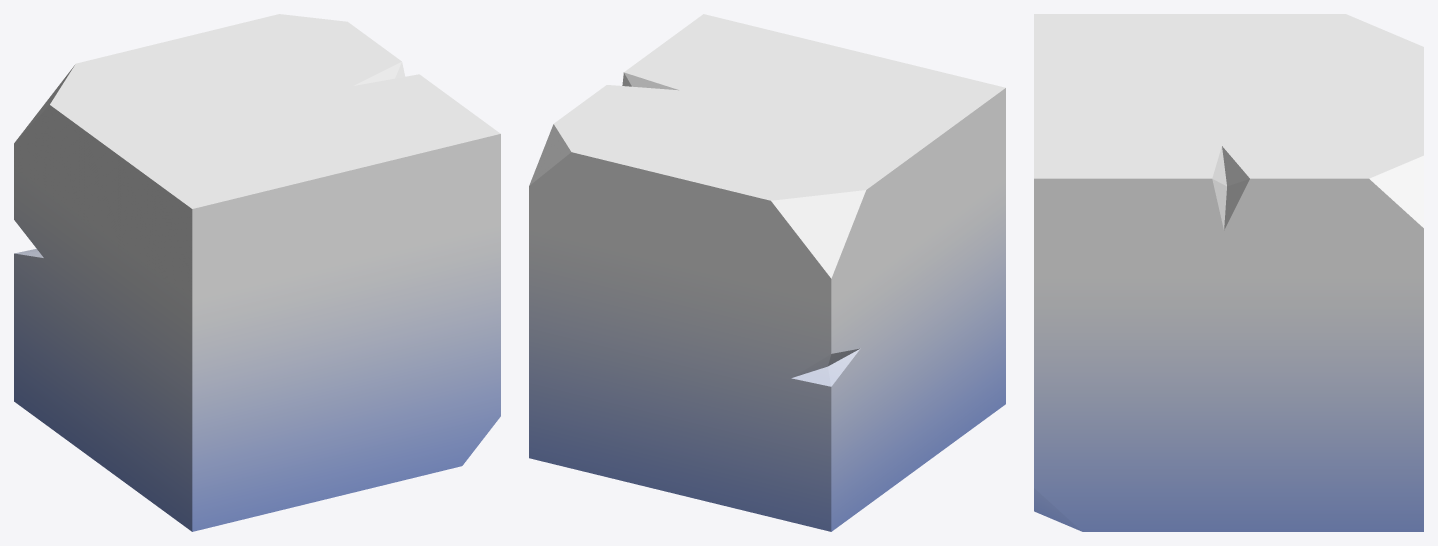
Rendered from Stone015.fbx.
The picture shows the model from 3 angles, left to right: view 1: azimuth 30°, elevation 25°; view 2: azimuth 150°, elevation 25°; view 3: azimuth 270°, elevation 25°; orthographic projection. The views are drawn at different scales.
Visible parts, largest first — view 1: Stone015; view 2: Stone015; view 3: Stone015.
Part boxes in pixels (left/top/right/bottom): Stone015: left=14, top=14, right=500, bottom=531; Stone015: left=529, top=14, right=1005, bottom=531; Stone015: left=1034, top=14, right=1423, bottom=531.
Bounding box in the file's own units: 156 × 156 × 156.
